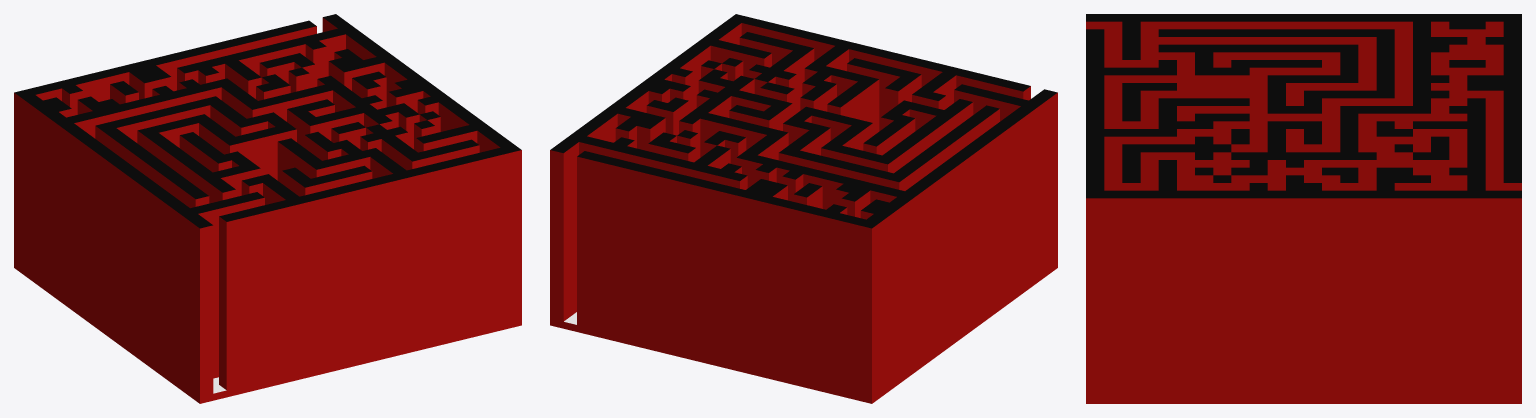
File: maze2.obj
3 views of the same model, side by side, from view 1: azimuth 30°, elevation 25°; view 2: azimuth 150°, elevation 25°; view 3: azimuth 270°, elevation 25° (orthographic). The views are drawn at different scales.
Visible parts, largest first — view 1: Cube_walls, Cube_top; view 2: Cube_walls, Cube_top; view 3: Cube_walls, Cube_top.
Boxes of the visible parts, left/top/right/bottom form: Cube_walls: left=14, top=17, right=521, bottom=403; Cube_top: left=14, top=14, right=521, bottom=228; Cube_walls: left=550, top=23, right=1057, bottom=403; Cube_top: left=550, top=14, right=1057, bottom=228; Cube_walls: left=1086, top=21, right=1521, bottom=403; Cube_top: left=1086, top=14, right=1521, bottom=198.
Size of the model in its own units: 48 by 25 by 48.
